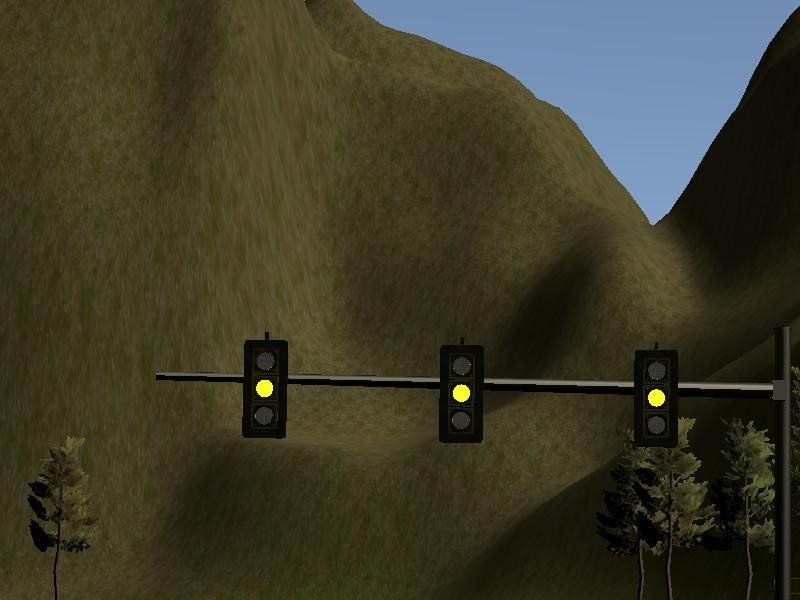yellow: (235, 325, 295, 450), (626, 338, 687, 451), (430, 335, 489, 449)
